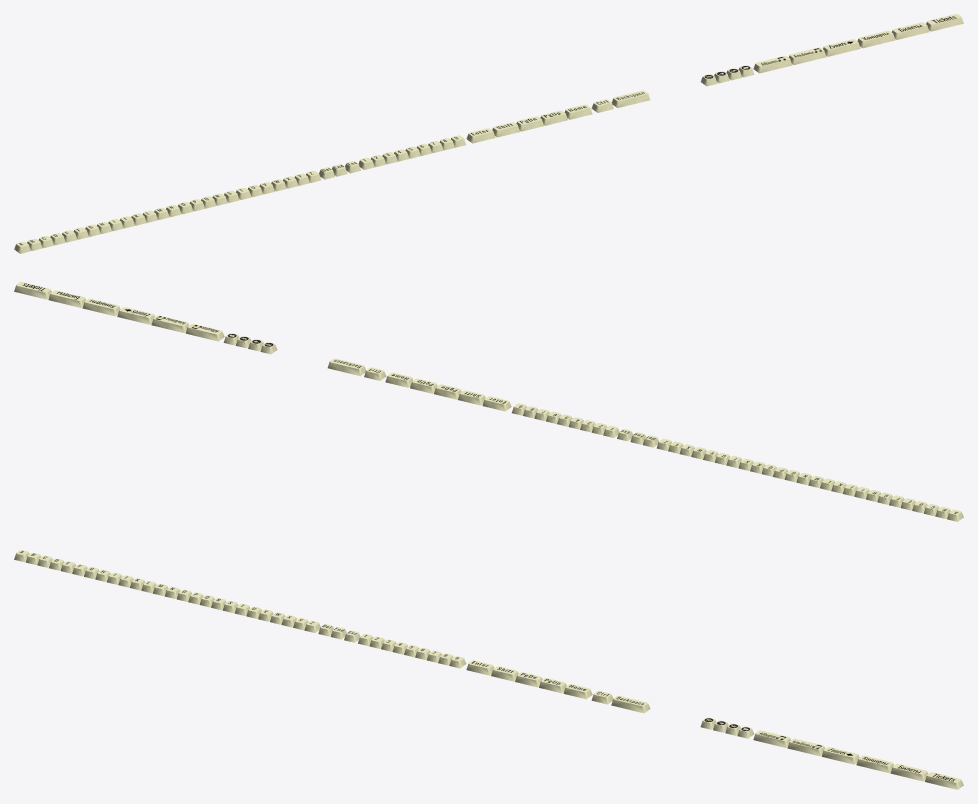
File: keycaps.glb
3 views of the same model, one above another, from view 1: azimuth 30°, elevation 25°; view 2: azimuth 150°, elevation 25°; view 3: azimuth 330°, elevation 25° (orthographic).
Size of the model in its own units: 19.2 by 0.1185 by 0.2213.
2 materials, 2 textured.
